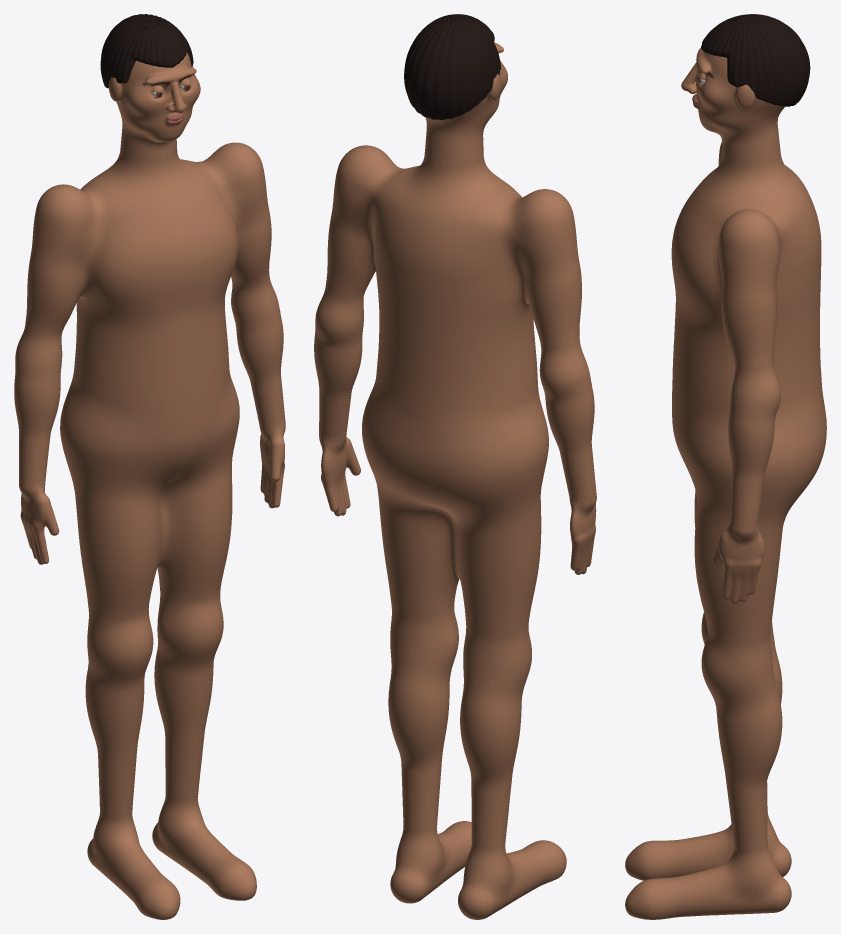
The model's file is body-male.glb.
3 views of the same model, side by side, from view 1: azimuth 30°, elevation 25°; view 2: azimuth 150°, elevation 25°; view 3: azimuth 270°, elevation 25° (orthographic). The views are drawn at different scales.
Parts seen in each view (by area): view 1: body-male, hair; view 2: body-male, hair; view 3: body-male, hair.
Boxes of the visible parts, left/top/right/bottom form: body-male: left=14, top=52, right=285, bottom=919; hair: left=100, top=14, right=193, bottom=88; body-male: left=314, top=42, right=596, bottom=919; hair: left=404, top=14, right=500, bottom=119; body-male: left=625, top=48, right=826, bottom=919; hair: left=701, top=14, right=810, bottom=106.
Size of the model in its own units: 0.5852 by 1.8 by 0.375.
